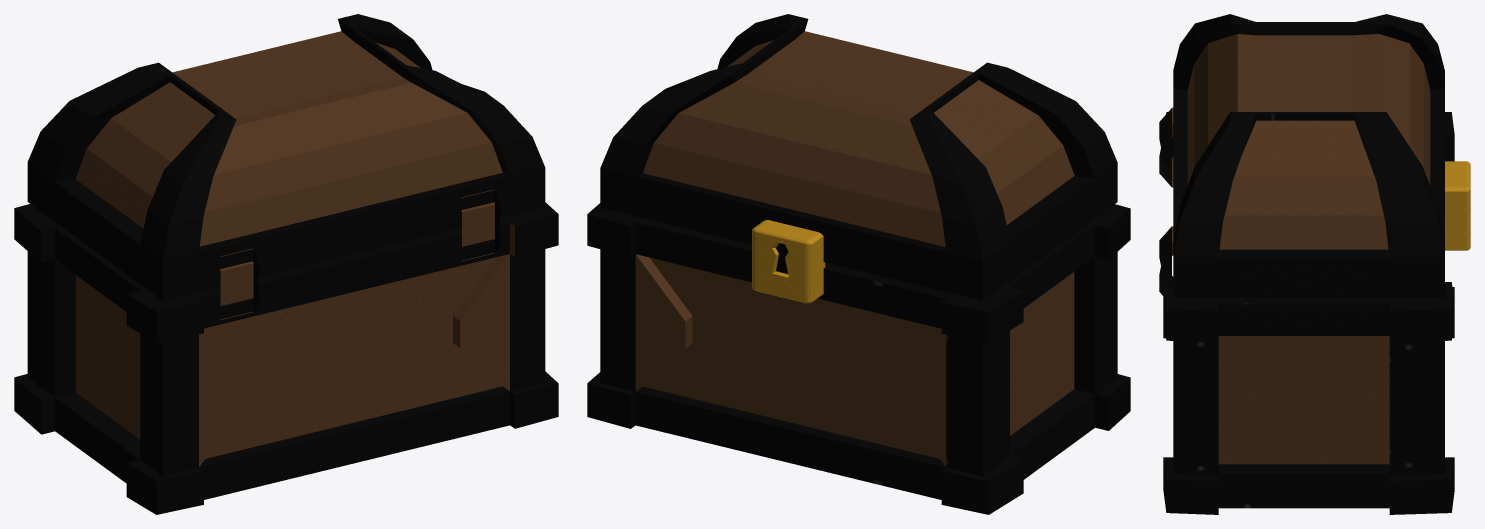
The model's file is wizard chest.fbx.
The picture shows the model from 3 angles, left to right: view 1: azimuth 30°, elevation 25°; view 2: azimuth 150°, elevation 25°; view 3: azimuth 270°, elevation 25°; orthographic projection.
Parts seen in each view (by area): view 1: Cube; view 2: Cube; view 3: Cube.
Boxes of the visible parts, <box> form: Cube: <box>14,14,558,514</box>; Cube: <box>587,14,1130,514</box>; Cube: <box>1159,14,1470,514</box>.
Bounding box in the file's own units: 254 × 204 × 166.
